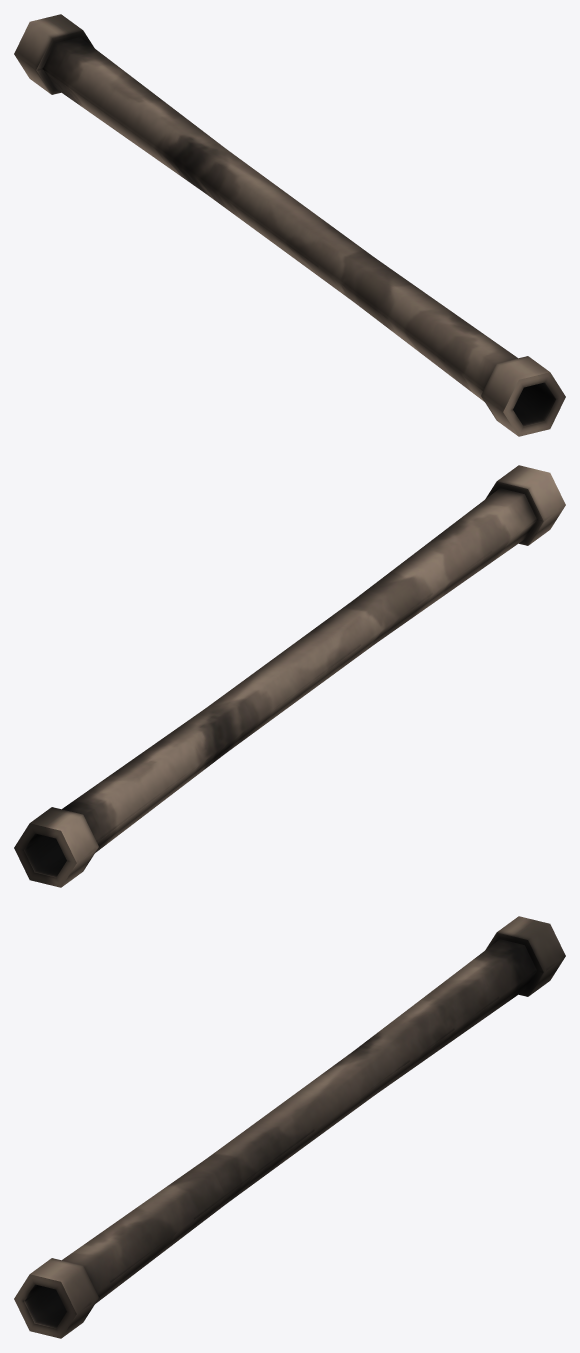
File: MESH_AMB28_tuyau2.fbx
3 renders of one model, top to bottom at view 1: azimuth 30°, elevation 25°; view 2: azimuth 150°, elevation 25°; view 3: azimuth 330°, elevation 25°, orthographic.
Visible parts, largest first — view 1: tuyau2; view 2: tuyau2; view 3: tuyau2.
Boxes of the visible parts, x1=… form: tuyau2: x1=14, y1=14, x2=565, y2=436; tuyau2: x1=14, y1=465, x2=565, y2=887; tuyau2: x1=14, y1=916, x2=565, y2=1338.
Bounding box in the file's own units: 2.31 × 2 × 31.15.
1 material, 1 textured.
